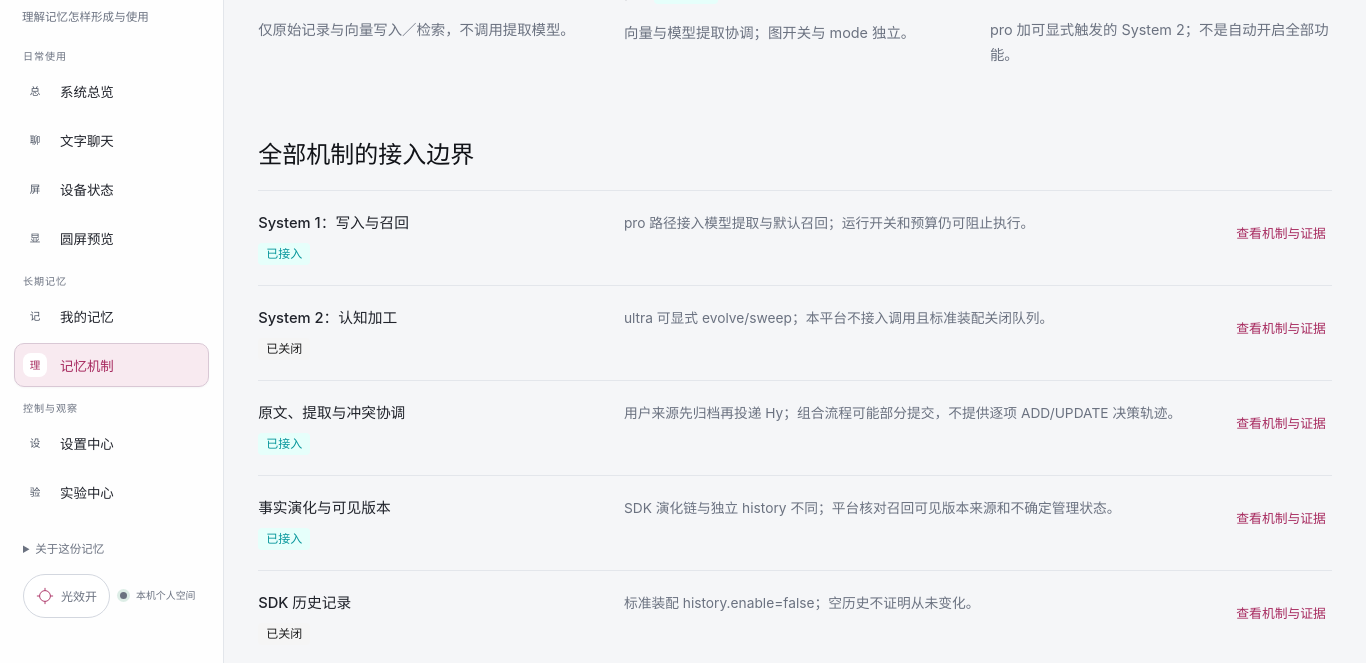
Scenario: 模式/场景及全部边界可探索，不出现启用开关
(page scrolled)
Click the button "查看机制与证据" in the row of "System 2：认知加工" at (1281, 328), box [1230,306,1332,350]
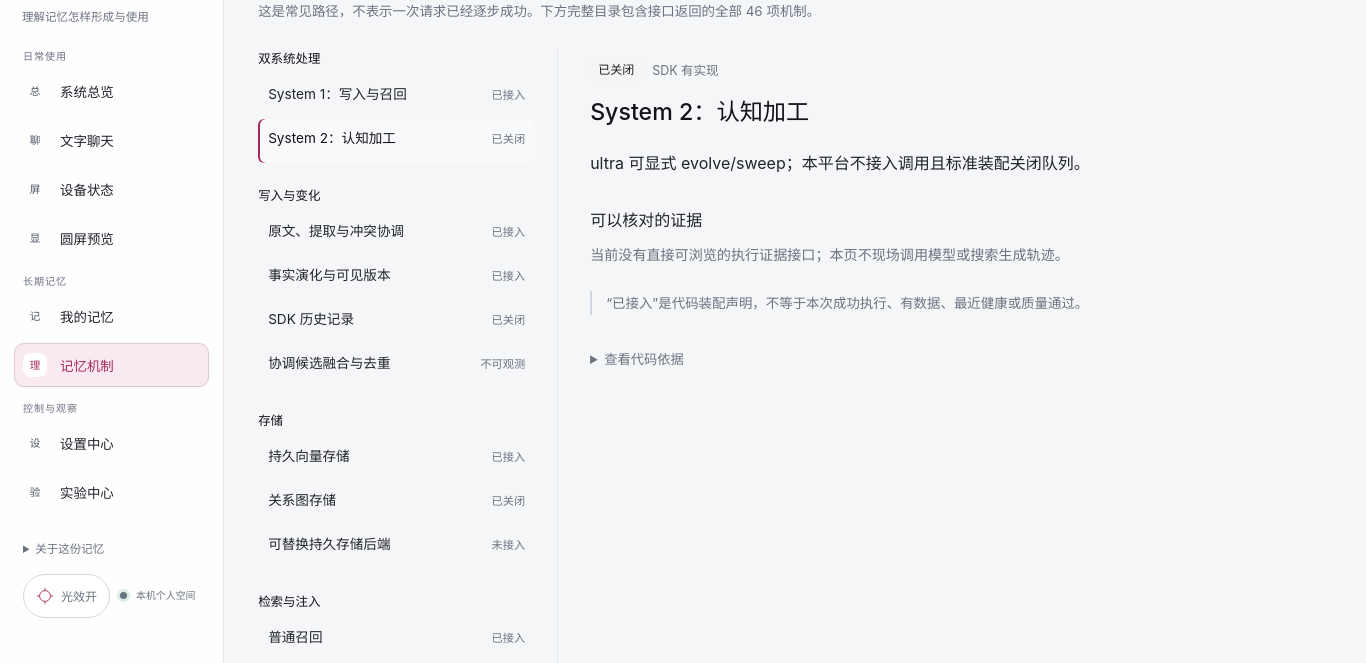
Expected: the heading "System 2：认知加工" is shown, [590,98,809,126]
